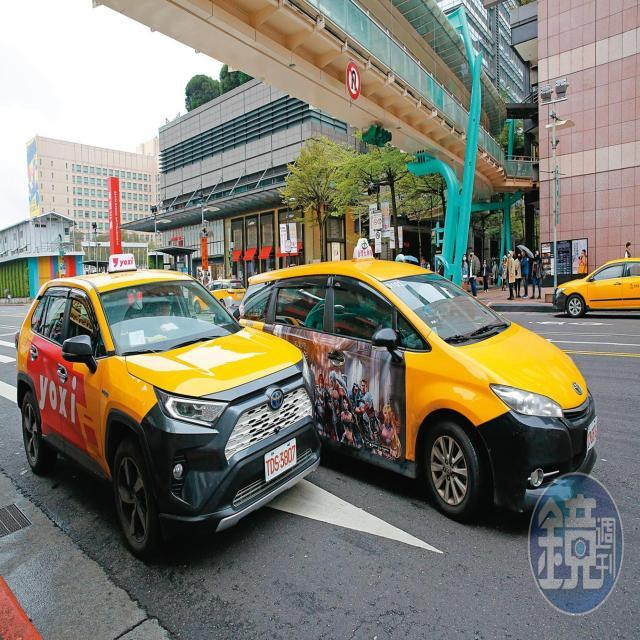Door: (240, 257, 599, 519), (552, 259, 640, 317)
Taxi: (15, 255, 320, 557)
